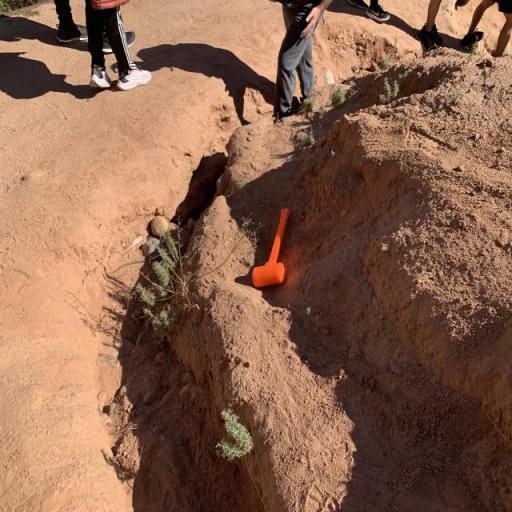mallet: (252, 204, 292, 292)
